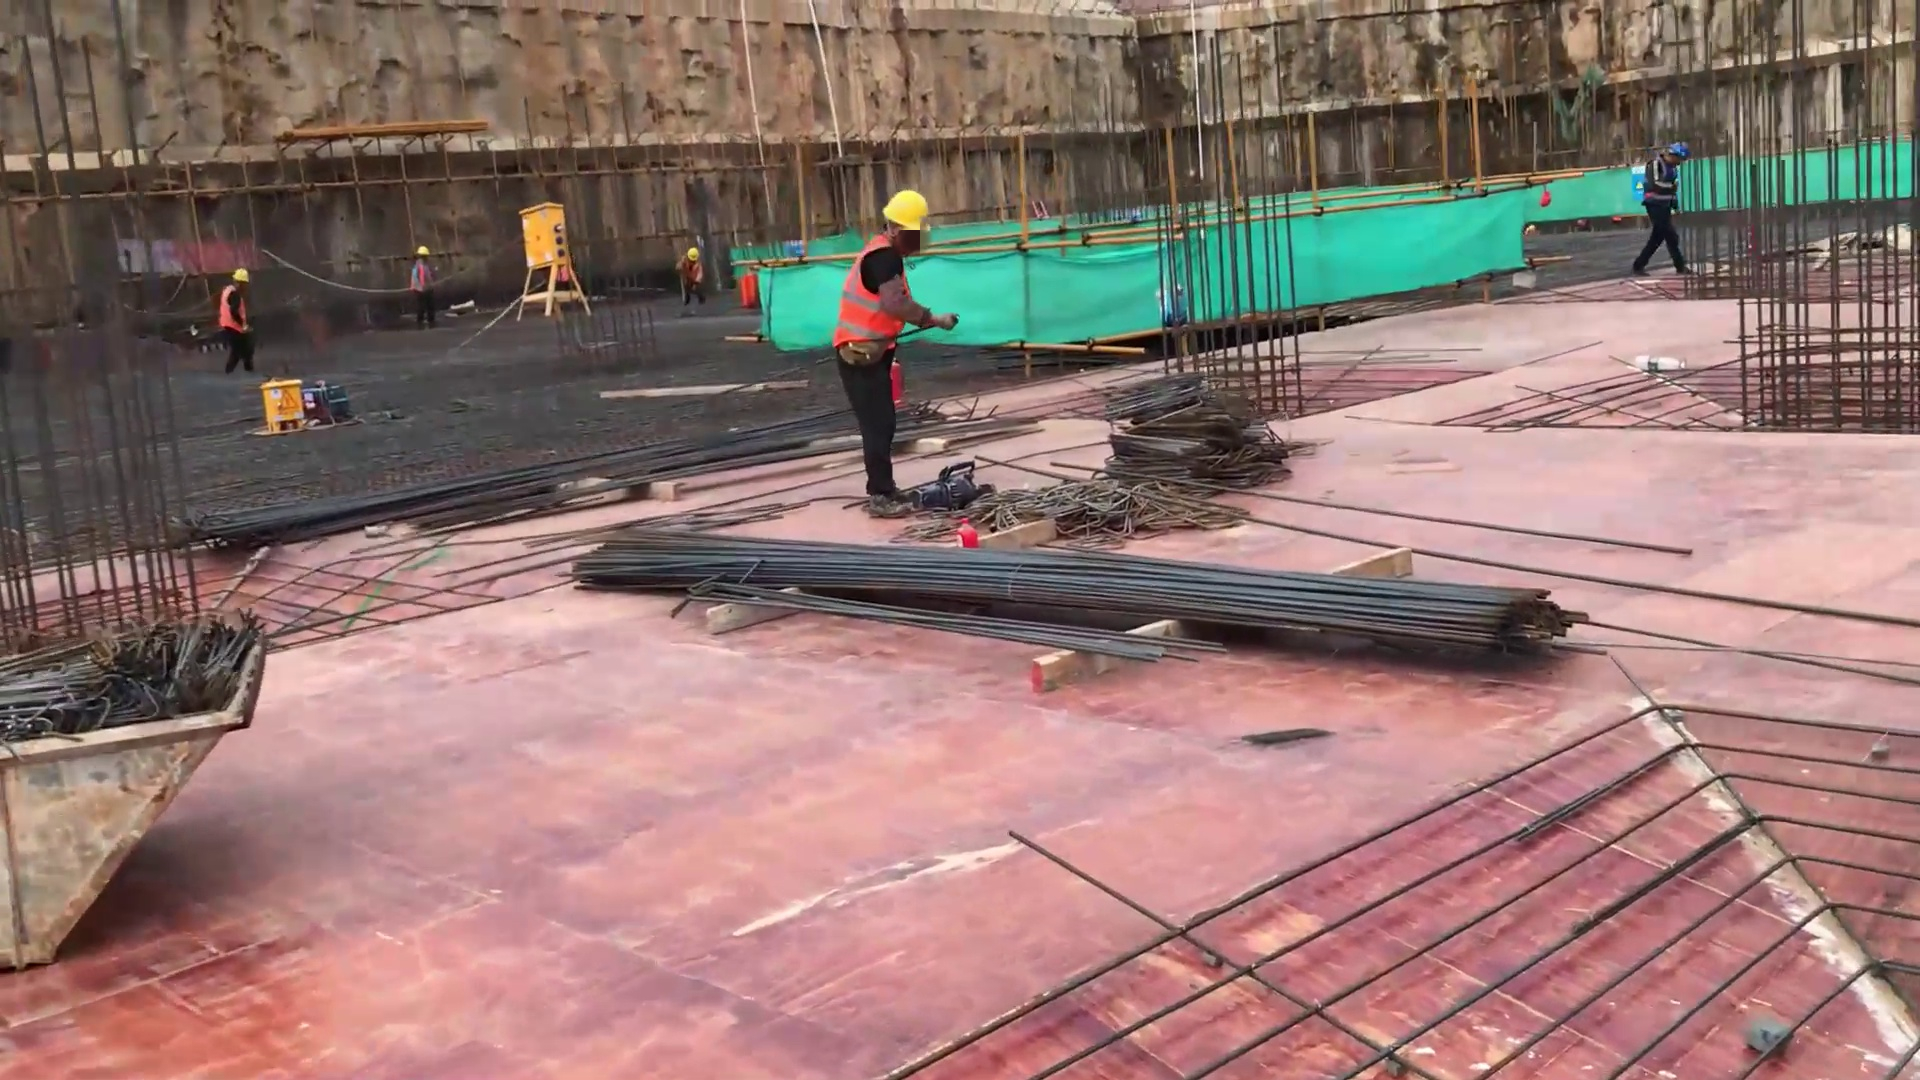ebox: (262, 382, 304, 428), (529, 219, 567, 268)
helmet: (877, 190, 929, 217), (1670, 141, 1691, 161), (232, 270, 251, 281), (688, 246, 701, 260), (418, 246, 432, 257)
hopper: (1, 549, 284, 951)
person: (834, 181, 929, 511), (1634, 141, 1689, 276), (213, 268, 259, 383), (393, 233, 441, 325), (676, 240, 719, 311)
rebar: (170, 381, 933, 561), (560, 524, 1574, 655)
vest: (836, 245, 914, 348), (1646, 161, 1676, 213), (225, 285, 247, 335), (408, 260, 431, 293), (686, 258, 709, 283)
